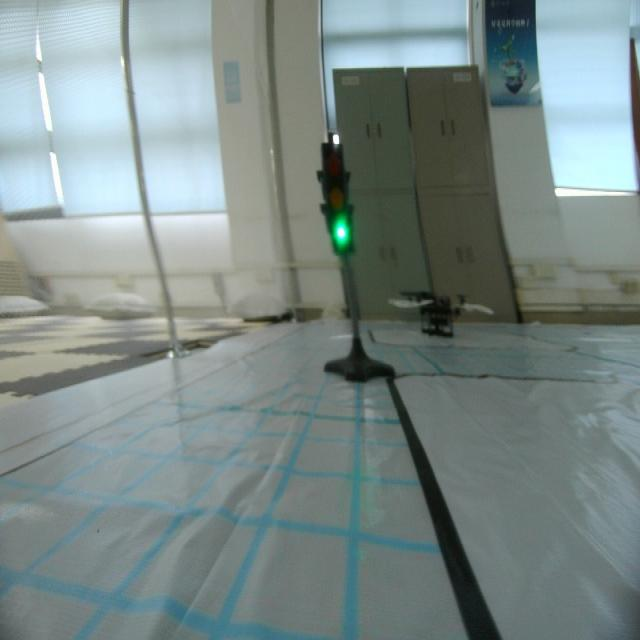green: (315, 140, 357, 255)
